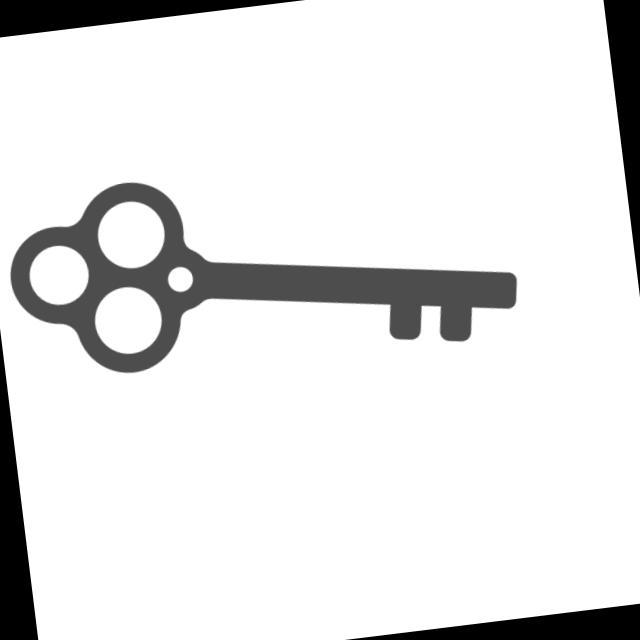key: (1, 126, 527, 405)
